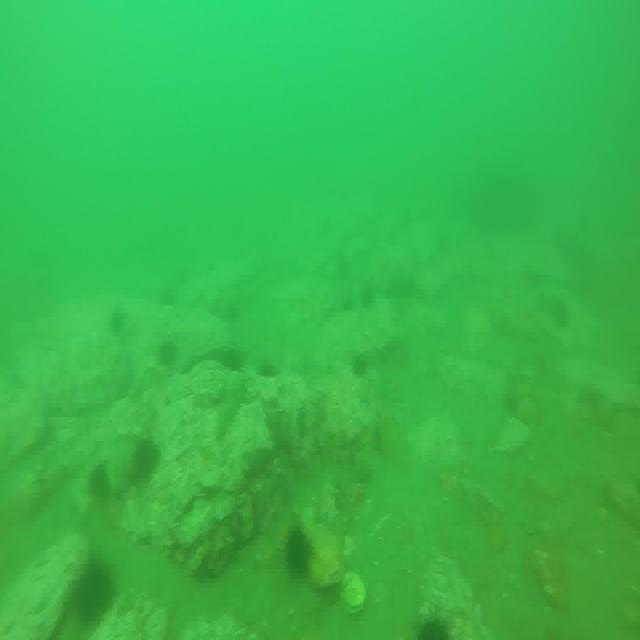echinus: (72, 559, 113, 614), (287, 524, 313, 581), (133, 438, 159, 484), (414, 613, 451, 640), (88, 462, 112, 496), (550, 300, 570, 328), (353, 352, 370, 382), (260, 355, 279, 381), (110, 307, 128, 333), (160, 338, 175, 360)
